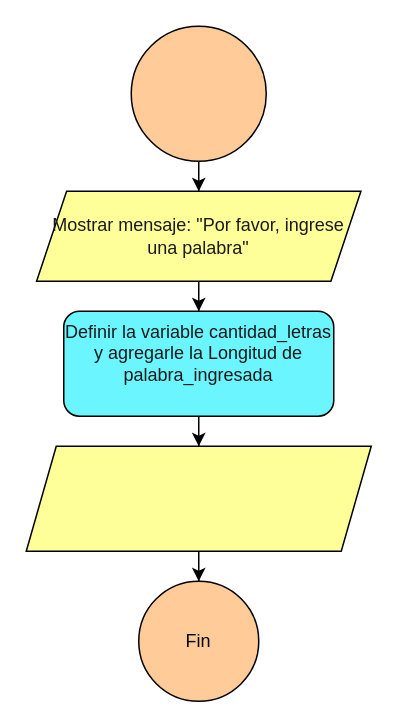
This 398x728 diagram has some shape labels left out. The shapes that lost their labels are listed below. From the top down, each one's box as (x1, y1, x2, y2) in pixels, then its label:
(130, 25, 266, 161): Inicio
(25, 445, 371, 551): Mostrar mensaje: "La palabra ingresada tiene", cantidad_letras, "letras."
